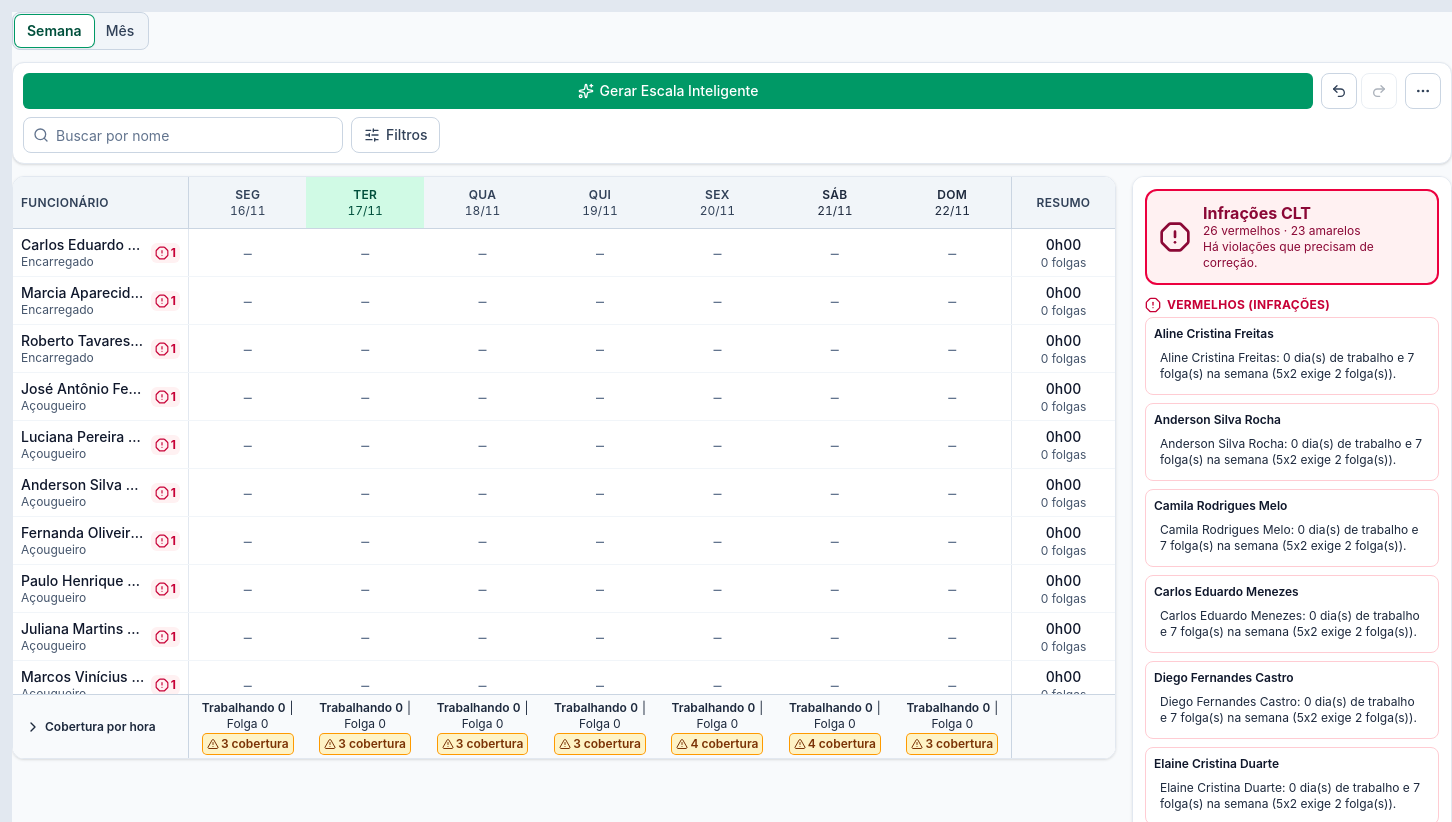
it: GridToolbar no celular › agrupa ações no menu "Mais ações" e fecha com Esc
Expected: the button "Limpar semana" is not shown
Click the button named "Mais ações" at (1423, 91), box [1405,73,1441,109]
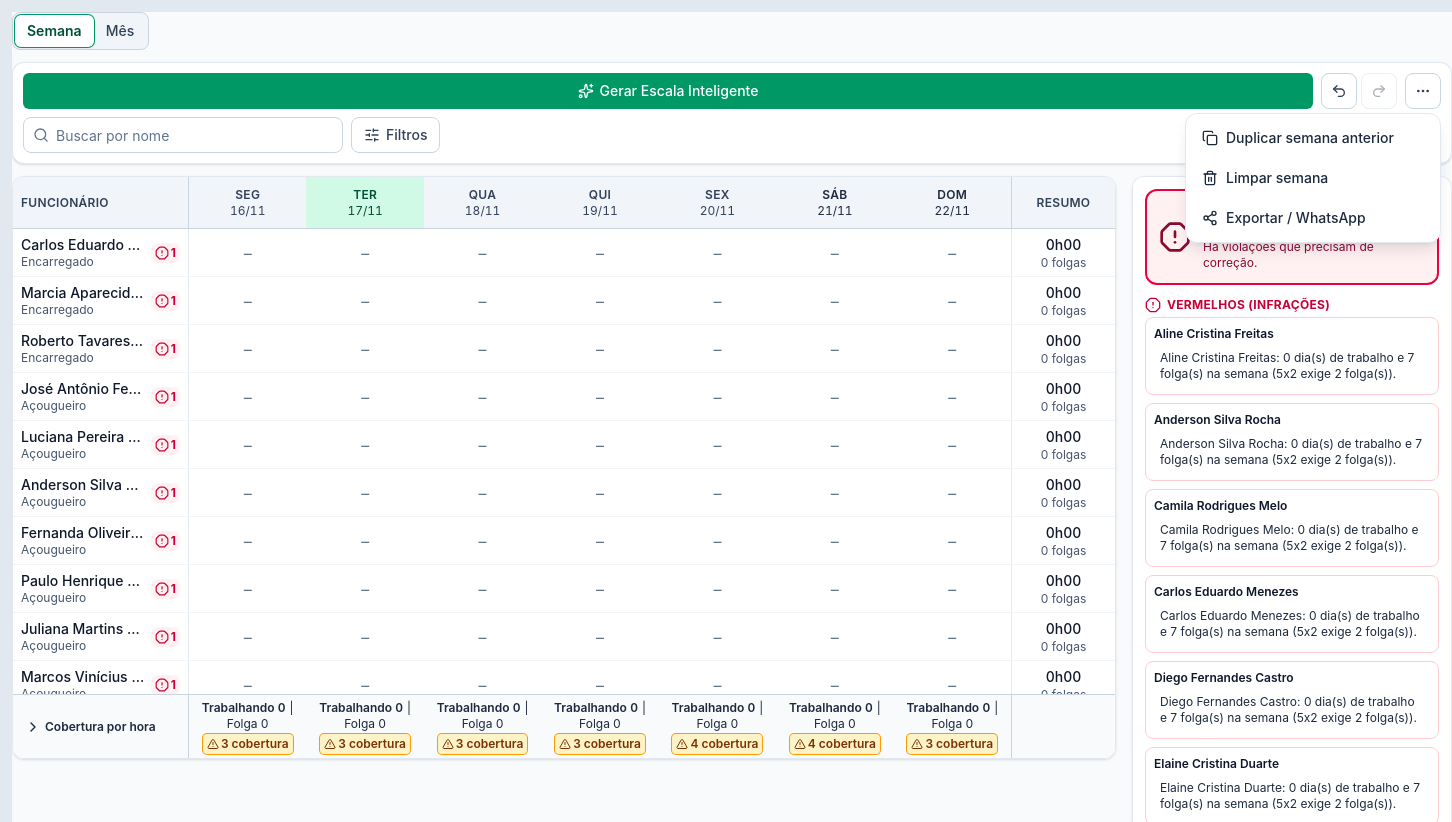
Now the menu item "Duplicar semana anterior" is shown, box [1190,118,1436,158]
Now the menu item "Exportar / WhatsApp" is shown, box [1190,198,1436,238]
Press Escape
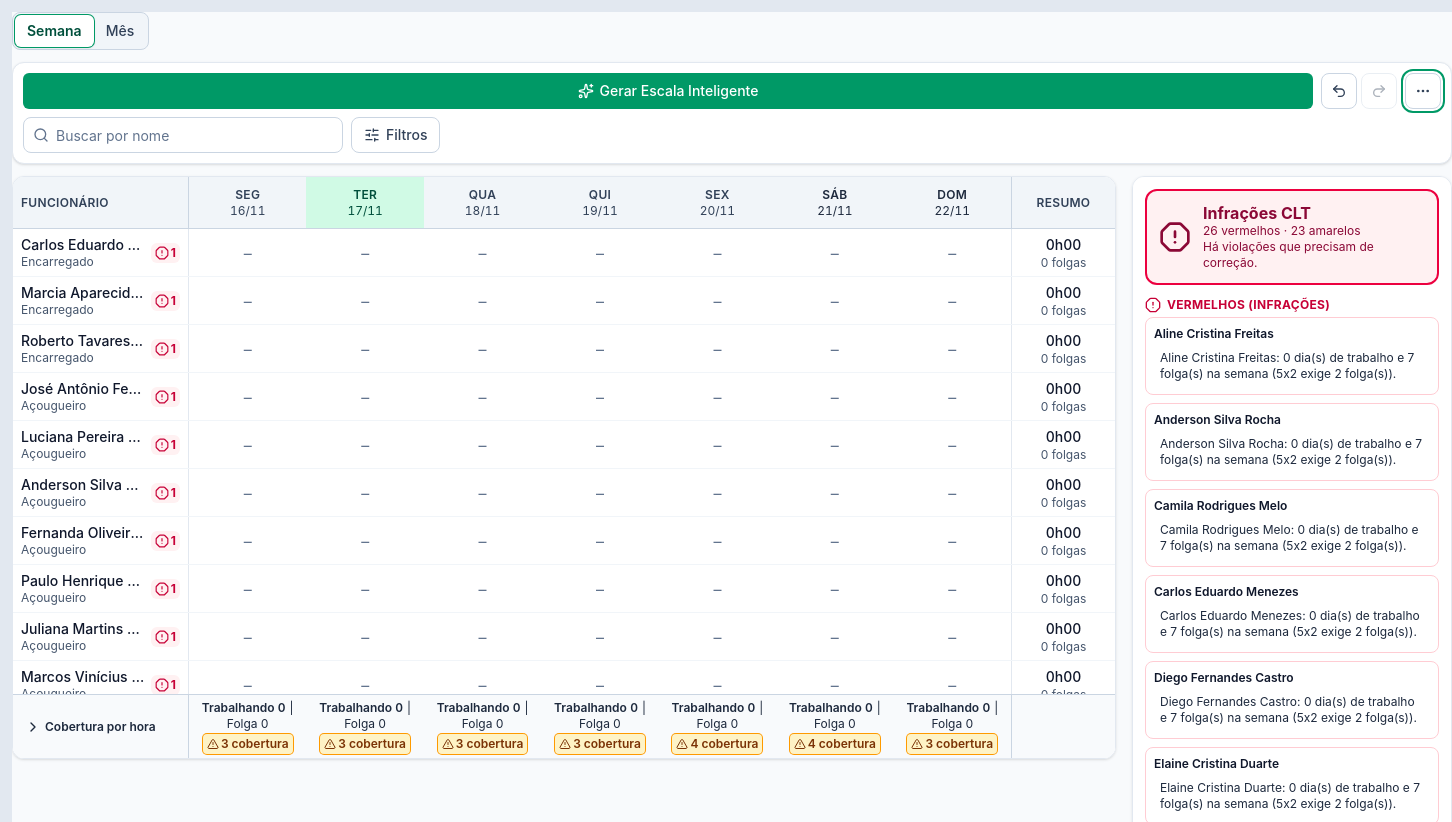
Now the menu is gone
